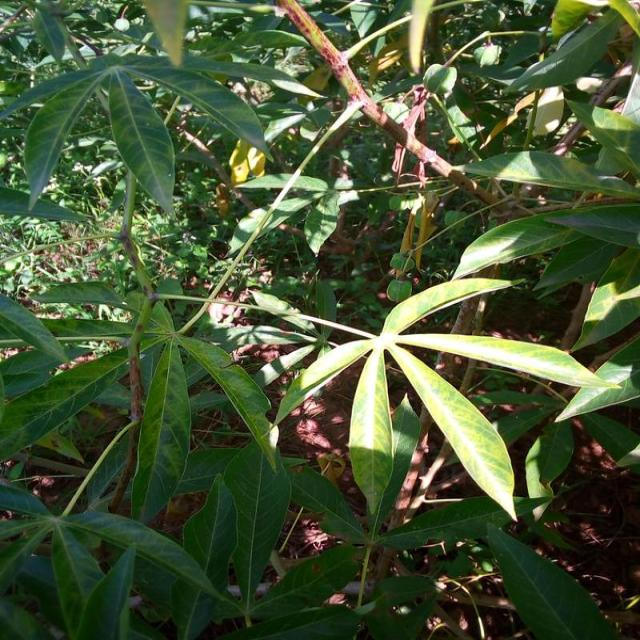cassava leaf: (265, 274, 617, 531), (106, 65, 176, 217)
